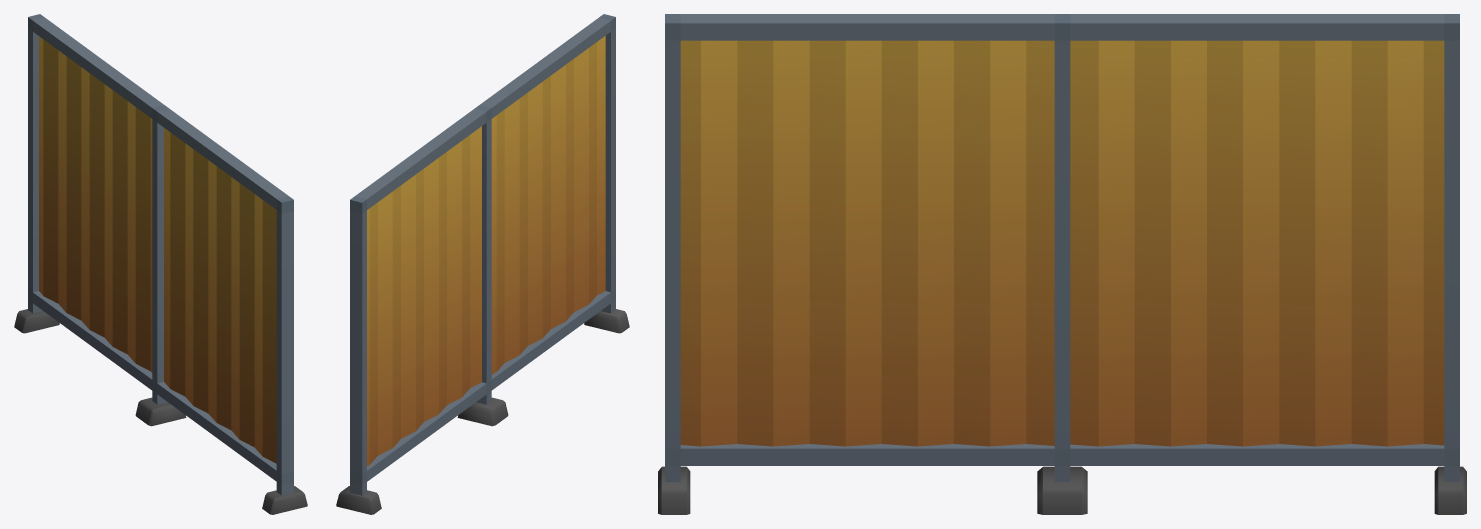
File: Barier_1_7.fbx
The picture shows the model from 3 angles, left to right: view 1: azimuth 30°, elevation 25°; view 2: azimuth 150°, elevation 25°; view 3: azimuth 270°, elevation 25°; orthographic projection. The views are drawn at different scales.
Visible parts, largest first — view 1: Barier_1_7; view 2: Barier_1_7; view 3: Barier_1_7.
Part boxes in pixels (<box>): Barier_1_7: <box>14,14,307,514</box>; Barier_1_7: <box>336,14,629,514</box>; Barier_1_7: <box>658,14,1466,514</box>.
Bounding box in the file's own units: 34.35 × 268 × 407.
